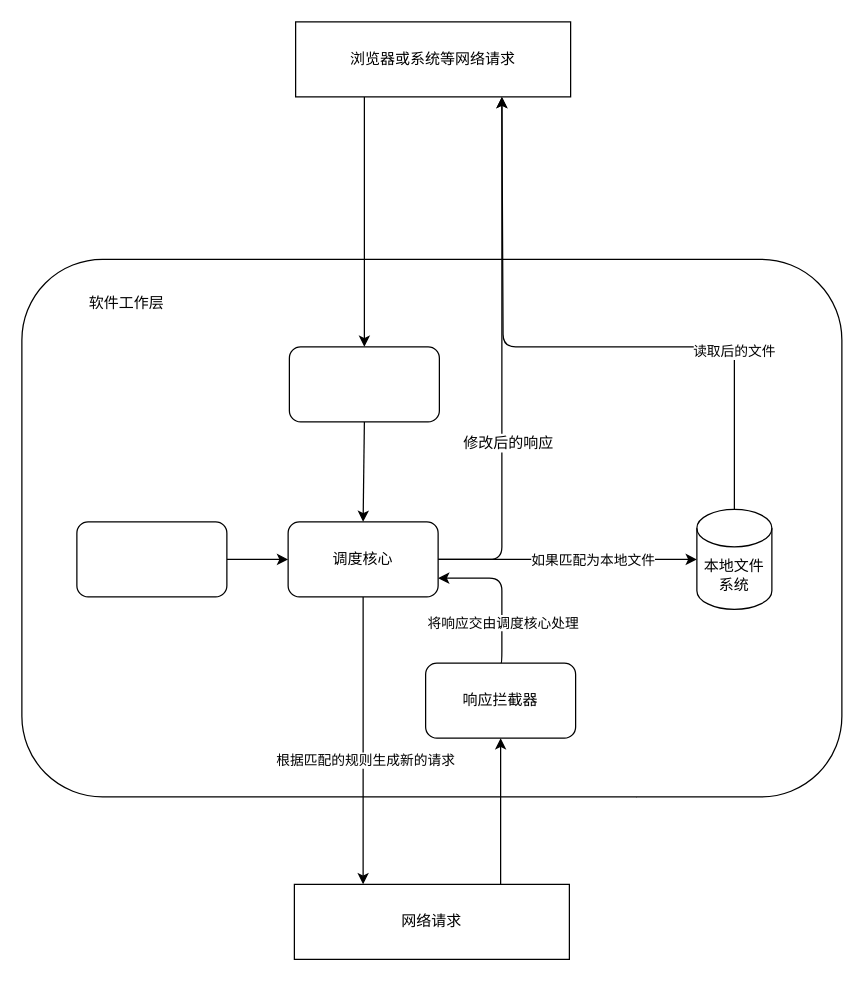
The diagram is 864 pixels wide and 981 high, and some of its shapes have lost their labels. Here are the shapes that lost their labels. From the top down, the centre of each, then its label:
At point (363, 384): "请求拦截器".
At point (151, 559): "用户自定义规则".
